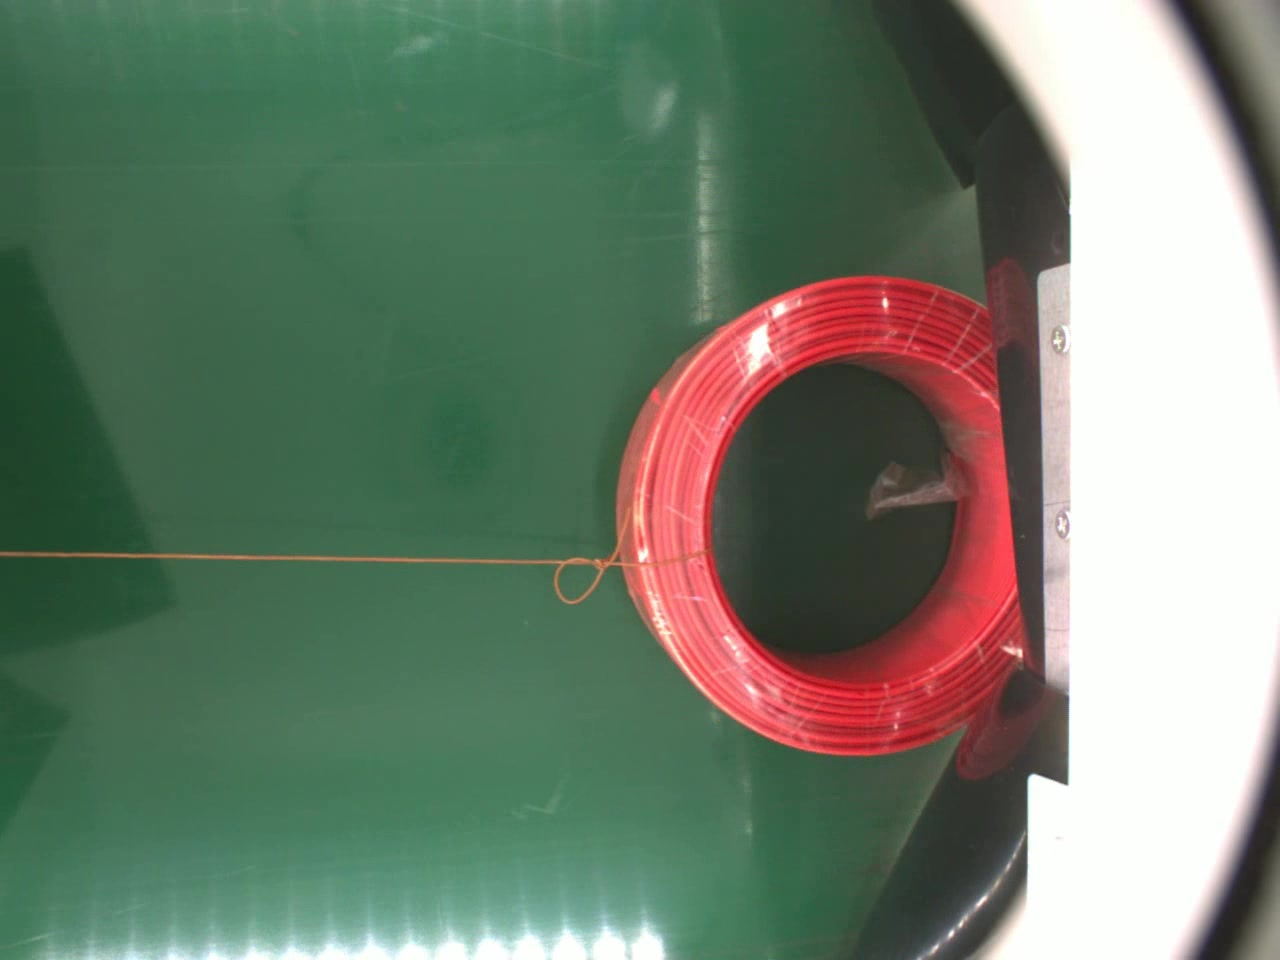red: (614, 268, 1017, 754)
